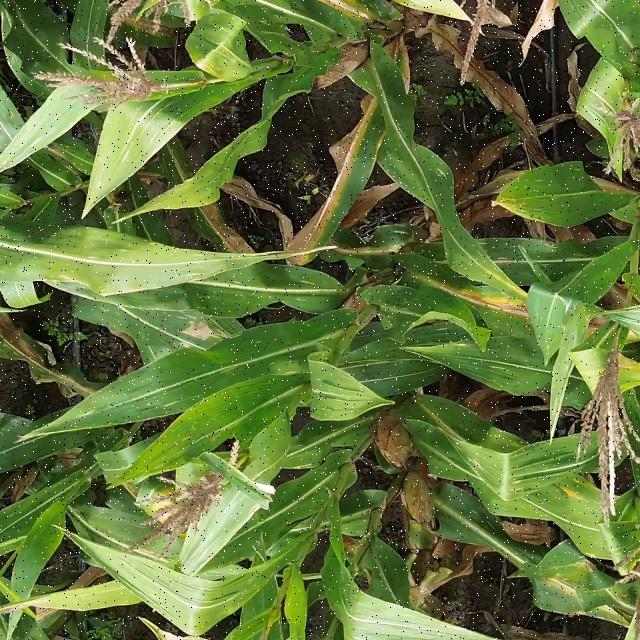gray-leaf-spot: (50, 228, 241, 353), (464, 230, 622, 343), (430, 414, 570, 526), (292, 274, 444, 350), (84, 80, 202, 174), (128, 387, 238, 468), (500, 164, 593, 222)
northern-leaf-blight: (287, 80, 404, 261)
southern-leaf-blight: (271, 0, 427, 51)
